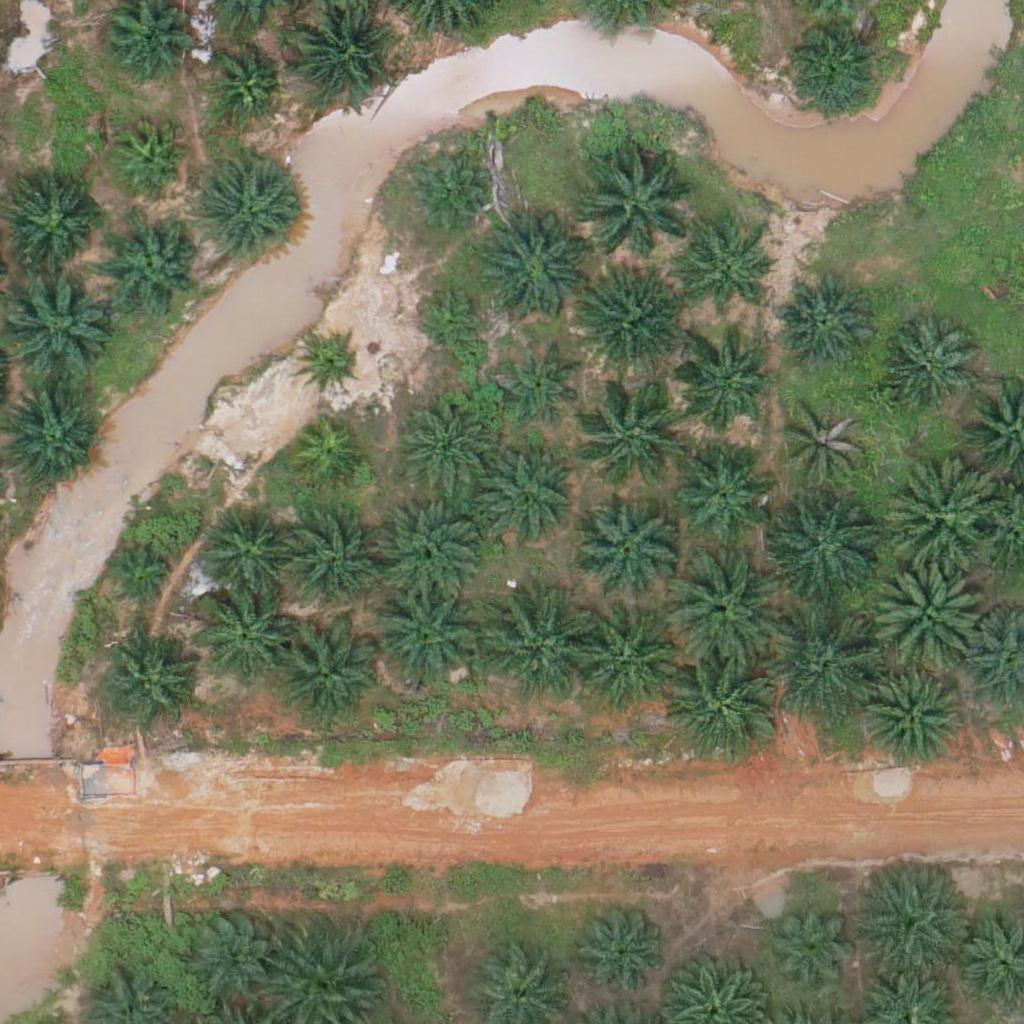Kelapa_Sawit: (667, 652, 780, 765), (580, 142, 693, 255), (474, 215, 587, 328), (372, 493, 485, 606), (369, 581, 482, 694), (271, 620, 384, 733), (855, 859, 967, 973), (579, 373, 691, 487), (477, 590, 589, 704), (883, 458, 995, 571), (870, 556, 982, 669), (772, 611, 884, 724), (768, 490, 880, 603), (666, 552, 778, 665), (567, 609, 679, 722), (570, 270, 682, 383), (571, 901, 671, 1002), (179, 901, 279, 1002), (876, 316, 976, 417), (672, 336, 772, 437), (574, 498, 674, 599), (474, 449, 574, 550), (282, 515, 382, 616), (197, 506, 297, 607), (99, 632, 199, 733), (861, 668, 961, 768), (782, 18, 882, 118), (773, 271, 873, 371), (672, 440, 772, 540), (289, 4, 389, 104), (199, 164, 299, 264), (397, 397, 497, 497), (192, 586, 292, 686), (105, 217, 205, 317), (497, 343, 585, 431), (402, 151, 490, 239), (10, 184, 98, 272), (772, 904, 859, 992), (782, 402, 869, 490), (684, 232, 771, 320), (111, 120, 186, 196), (206, 46, 281, 121), (414, 282, 489, 357), (290, 420, 365, 495), (105, 544, 180, 619), (299, 333, 362, 396)
